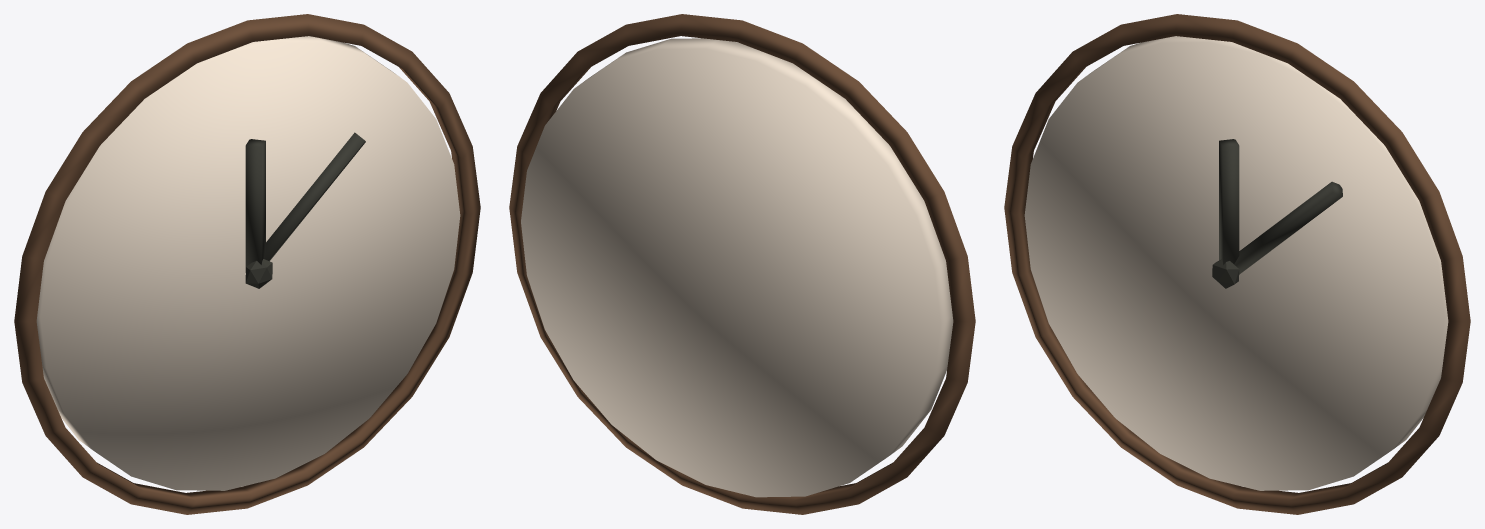
File: clock.glb
3 views of the same model, side by side, from view 1: azimuth 30°, elevation 25°; view 2: azimuth 150°, elevation 25°; view 3: azimuth 330°, elevation 25° (orthographic).
Visible parts, largest first — view 1: clock_face, clock_rim, clock_hour_hand, clock_minute_hand, clock_hub; view 2: clock_face, clock_rim; view 3: clock_face, clock_rim, clock_hour_hand, clock_minute_hand, clock_hub.
Part boxes in pixels (x1,y1,x2,y2): clock_face: [36, 36, 460, 490]; clock_rim: [14, 14, 480, 514]; clock_hour_hand: [245, 139, 265, 272]; clock_minute_hand: [264, 132, 365, 261]; clock_hub: [245, 259, 272, 288]; clock_face: [521, 38, 953, 497]; clock_rim: [509, 14, 975, 514]; clock_face: [1024, 36, 1448, 490]; clock_rim: [1004, 14, 1470, 514]; clock_hour_hand: [1219, 139, 1239, 264]; clock_minute_hand: [1234, 181, 1342, 274]; clock_hub: [1212, 259, 1239, 288].
Size of the model in its own units: 0.46 by 0.46 by 0.046.
